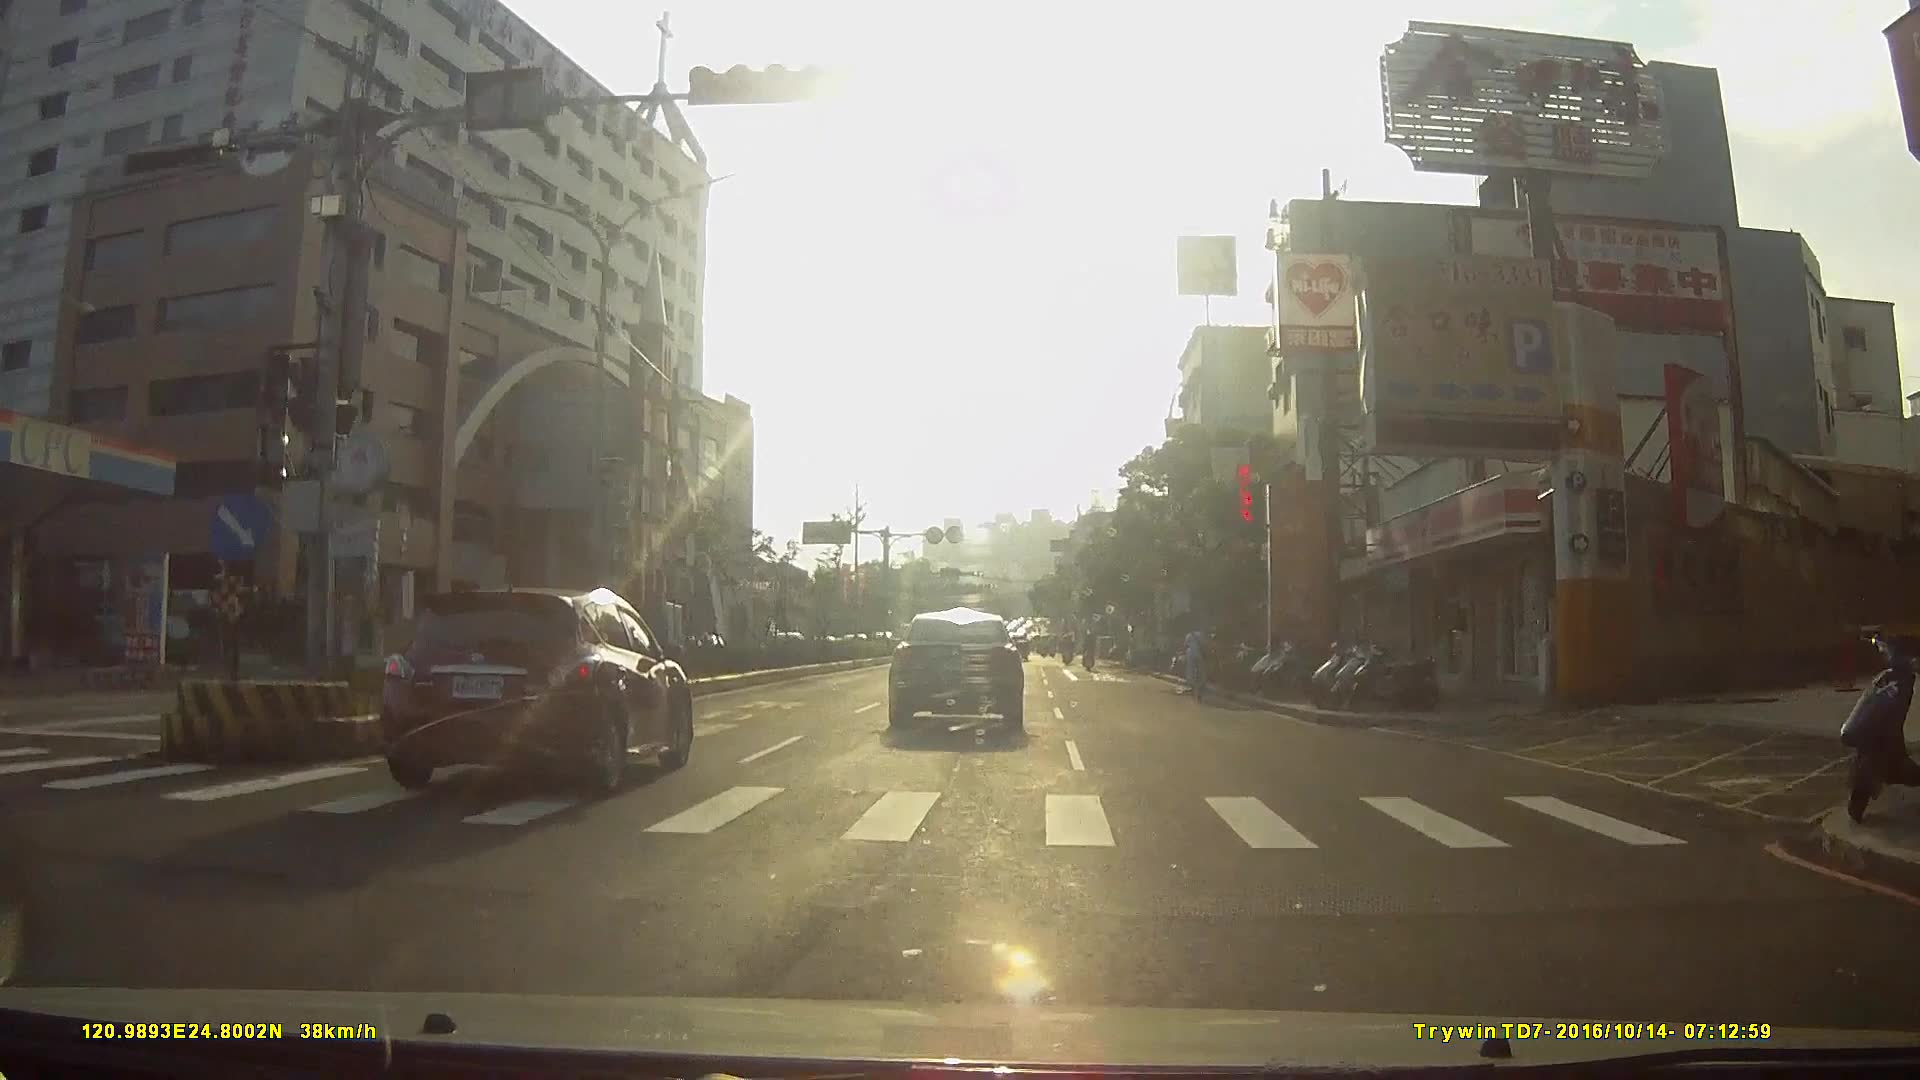rider: (1181, 618, 1213, 706)
vehicle: (370, 580, 702, 800), (885, 605, 1034, 735), (763, 607, 822, 662), (1124, 618, 1176, 672)
